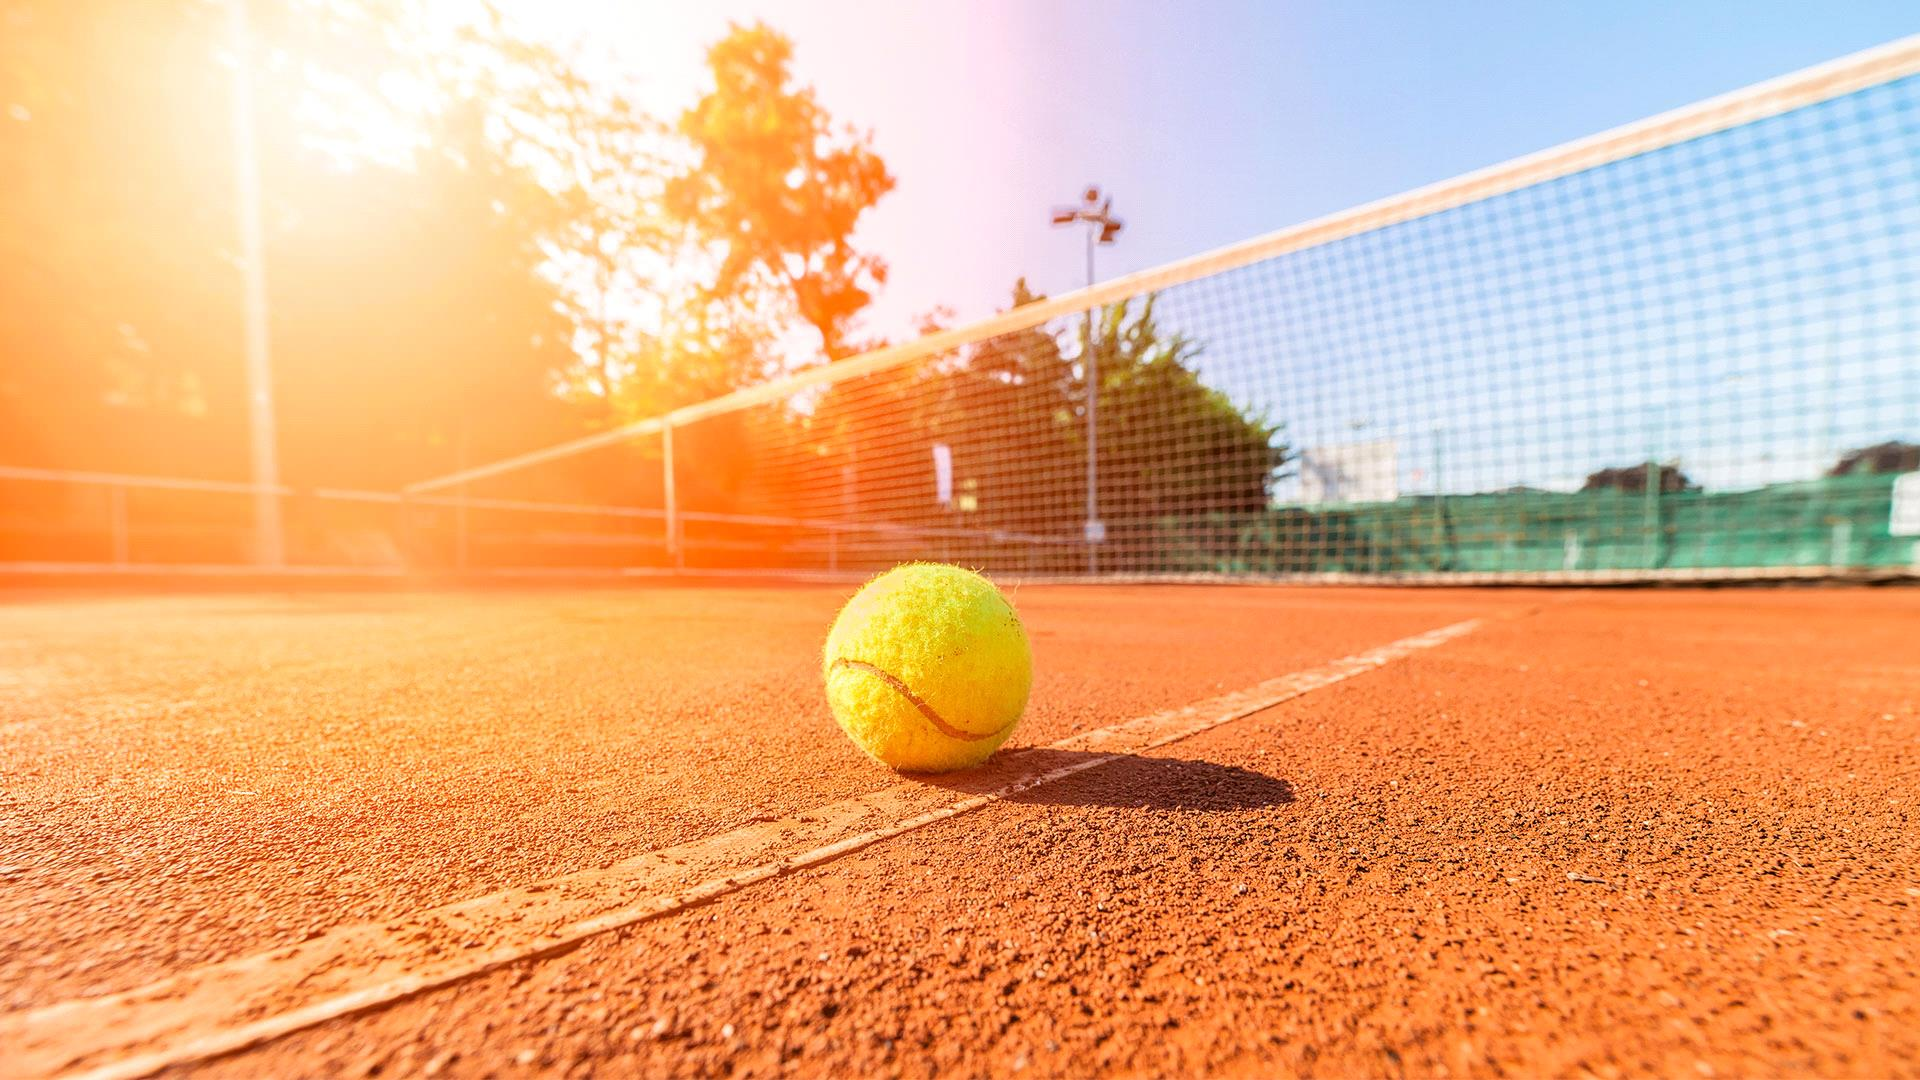tennis_ball: (818, 556, 1036, 783)
